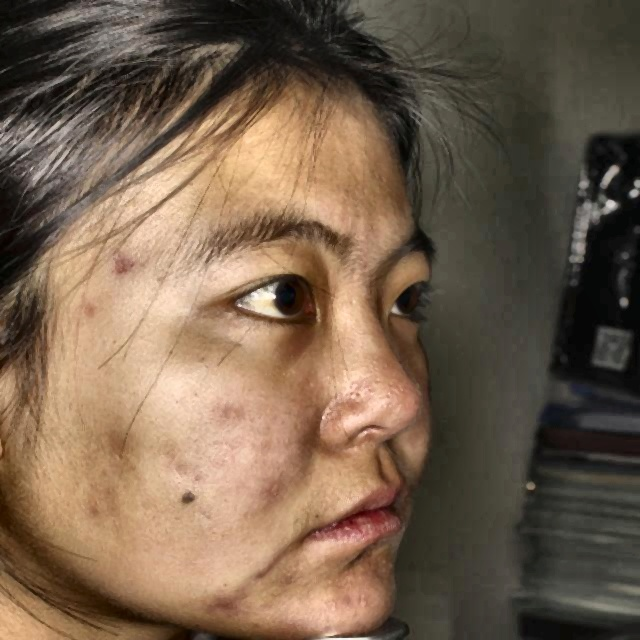pustule: (204, 586, 252, 618), (323, 586, 360, 614), (211, 401, 249, 427), (101, 248, 142, 271), (252, 561, 281, 580), (78, 298, 101, 320)
